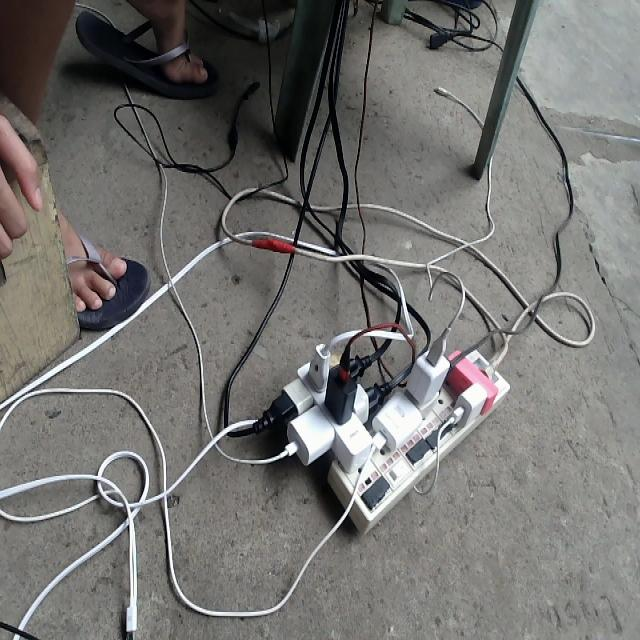-: (253, 324, 507, 533)
